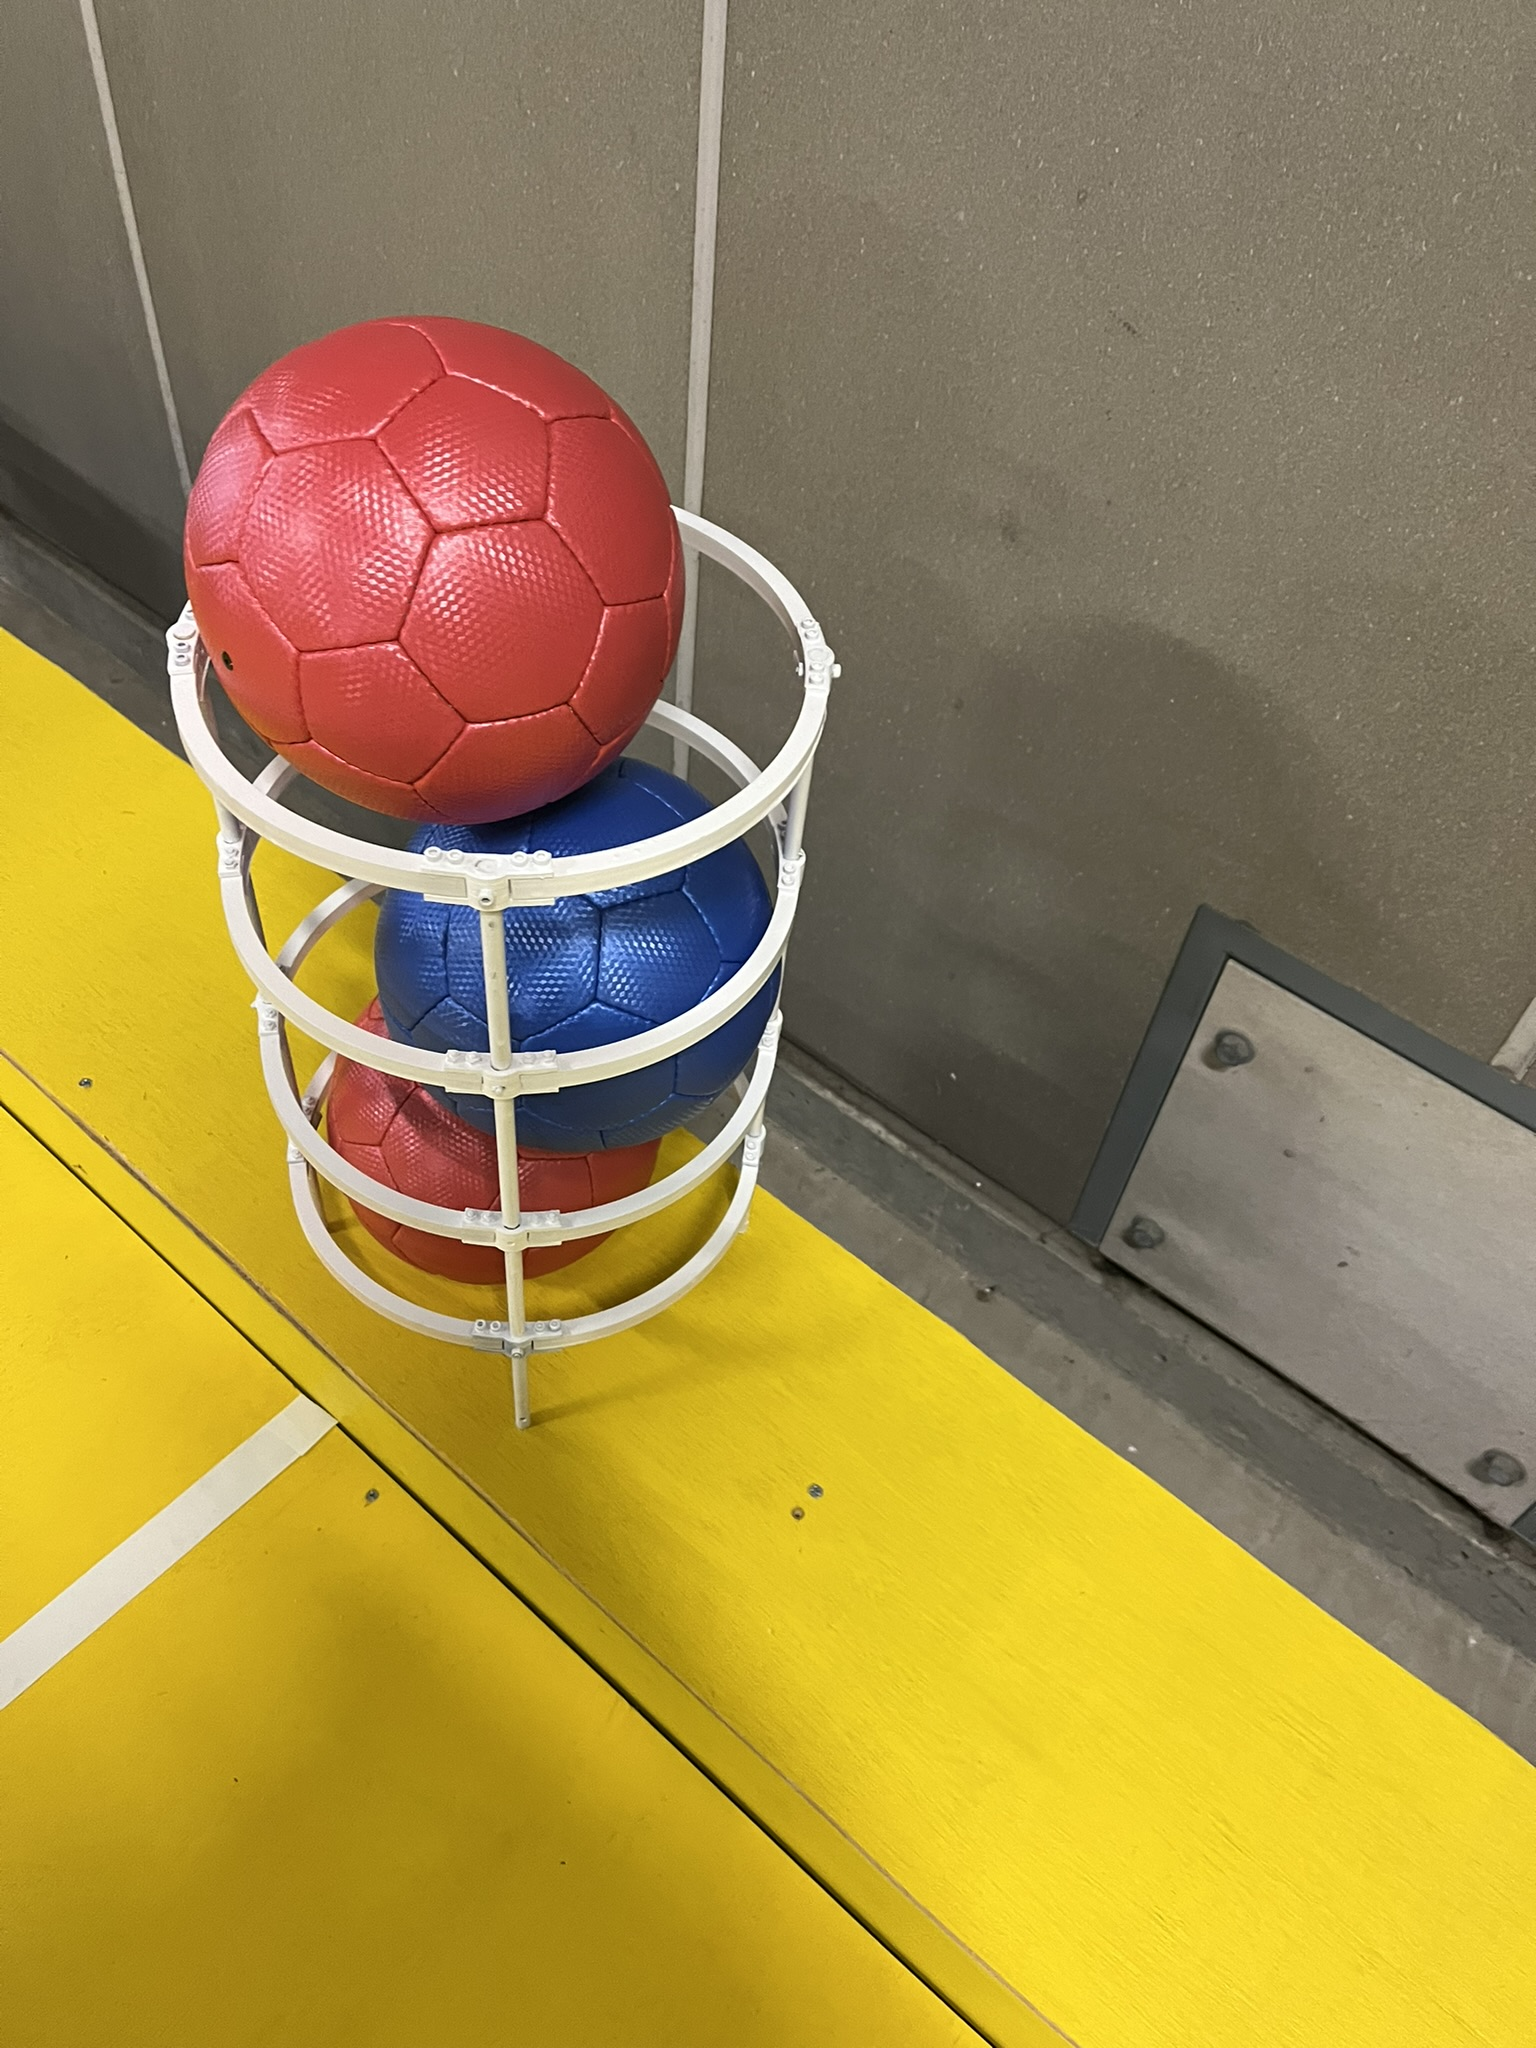blue: (381, 745, 773, 1153)
